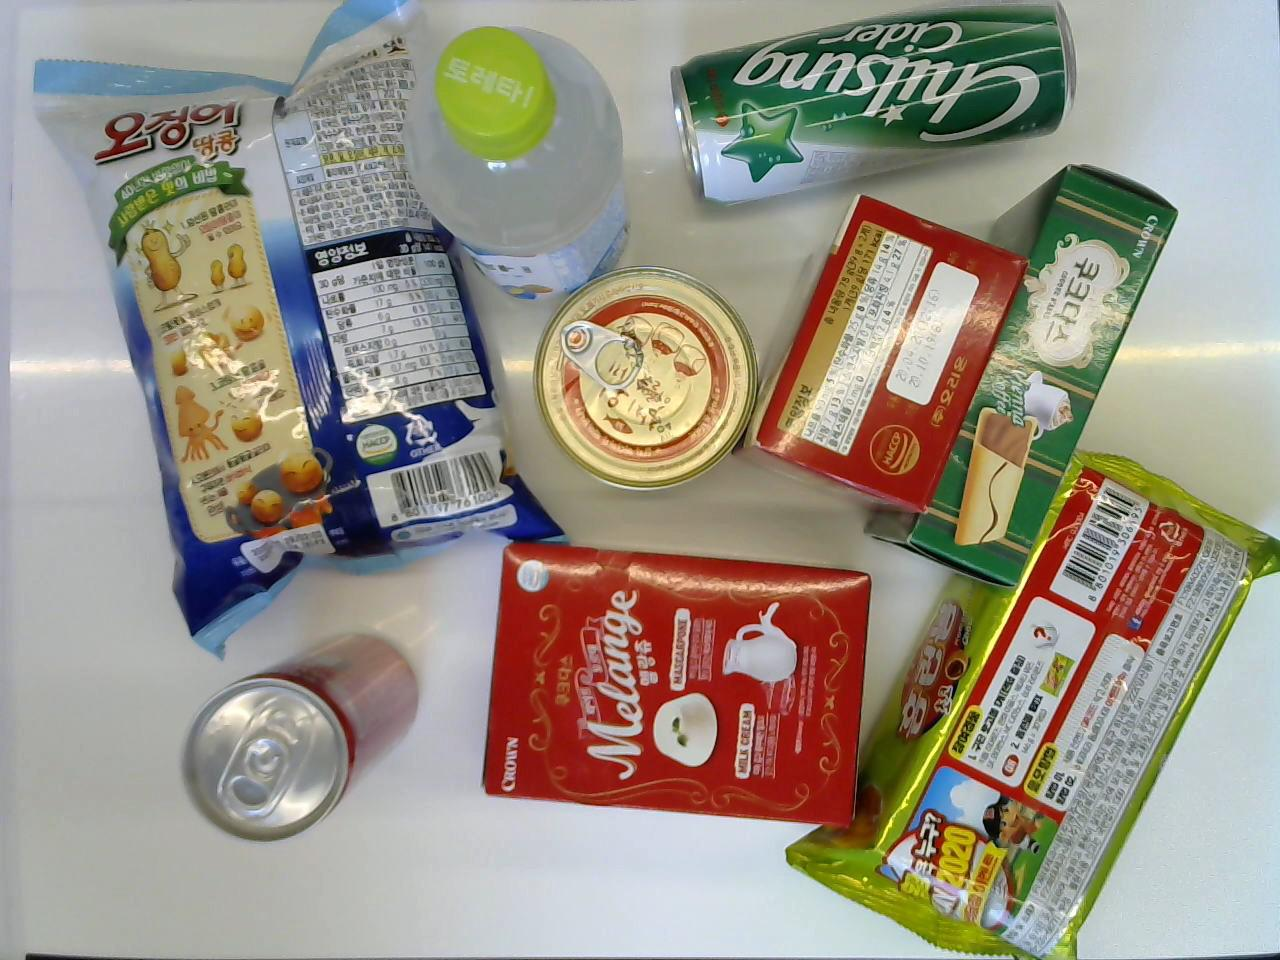chocopie: (730, 192, 1028, 518)
cidar: (665, 3, 1075, 214)
coke: (177, 628, 419, 847)
couque_coffee: (865, 166, 1181, 594)
couque_white: (484, 537, 871, 829)
homerunball: (775, 435, 1279, 960)
squid_peanut: (26, 0, 573, 666)
toreta: (402, 18, 631, 308)
tuna: (533, 262, 761, 496)
